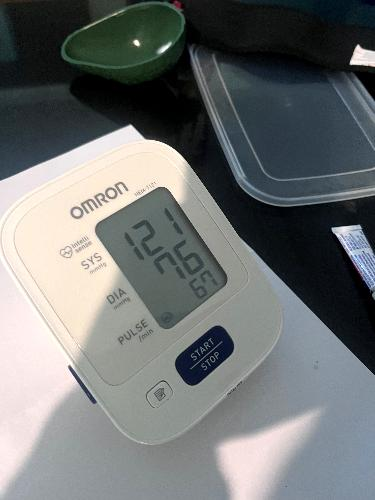bpm: (91, 179, 234, 333)
